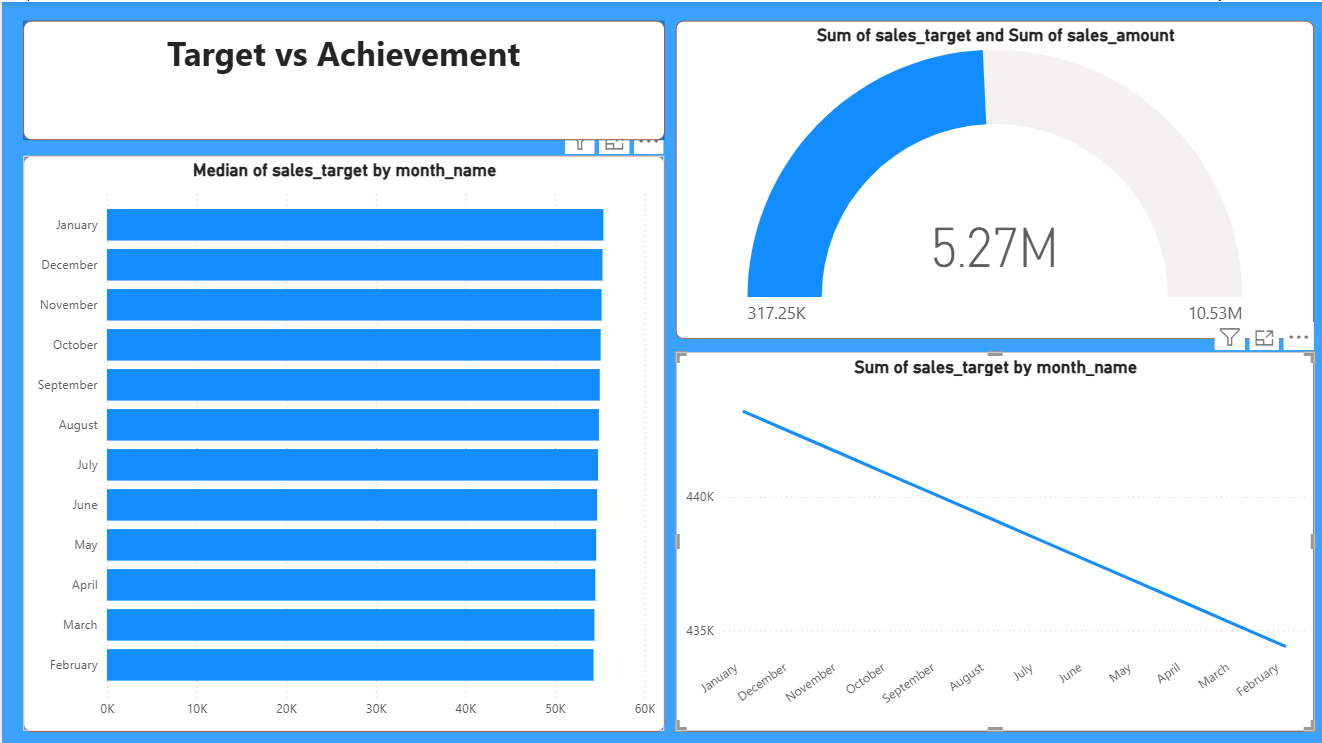

This screenshot's page, from the dashboard's own definition file:
{"tool":"powerbi","page":{"name":"TARGETS Table Visuals","canvas":[1280,720],"ordinal":6},"visuals":[{"type":"lineChart","fields":{"Category":["targets.month_name"],"Y":["Sum(targets.sales_target)"]},"box":[650.4,337.6,616.1,366.4],"z":0},{"type":"gauge","fields":{"Y":["Sum(targets.sales_target)"],"MinValue":["Sum(sales.sales_amount)"]},"box":[650,17.5,616.2,307.5],"z":1000},{"type":"clusteredBarChart","fields":{"Category":["targets.month_name"],"Y":["Sum(targets.sales_target)"]},"box":[20.6,148.2,618.9,555.7],"z":2000},{"type":"shape","box":[20.6,17.8,618.9,115.3],"z":3000},{"type":"textbox","box":[20.6,17.8,618.9,115.3],"z":4000}]}

Visuals, with their boxes in screenshot pixels (x1, y1, x2, y2), scaled from the page's 1280x720 canvas onto the 1322x743 screenshot:
lineChart - targets.month_name x Sum(targets.sales_target): detection(672, 348, 1308, 726)
gauge - Sum(targets.sales_target) x Sum(sales.sales_amount): detection(671, 18, 1308, 335)
clusteredBarChart - targets.month_name x Sum(targets.sales_target): detection(21, 153, 660, 726)
shape: detection(21, 18, 660, 137)
textbox: detection(21, 18, 660, 137)
